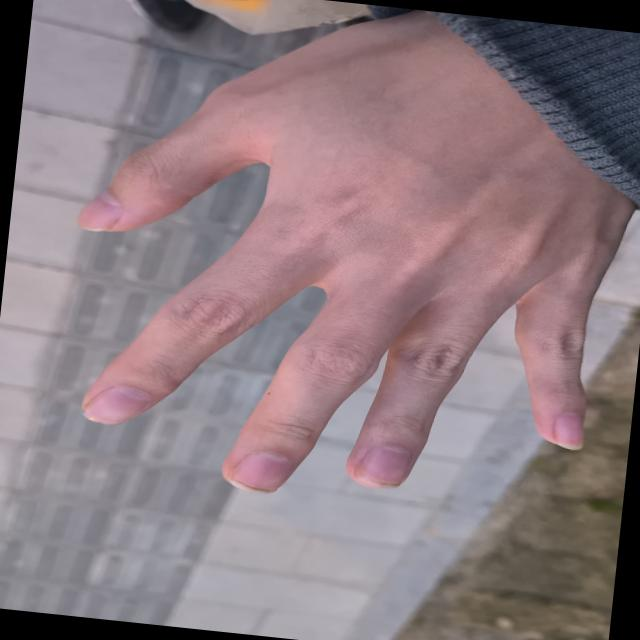Nail: (227, 451, 290, 492), (82, 385, 148, 423), (355, 445, 409, 486), (76, 186, 121, 229), (551, 411, 583, 449)
